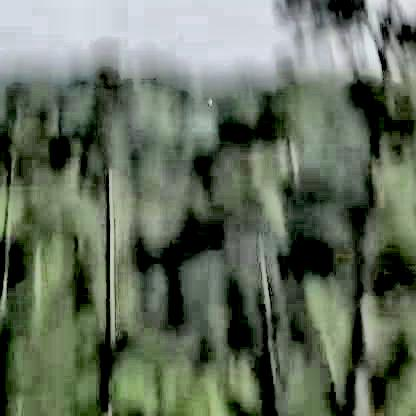golfball: (204, 92, 209, 102)
